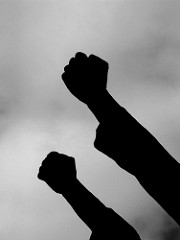fist: (61, 49, 114, 93), (36, 152, 81, 195)
